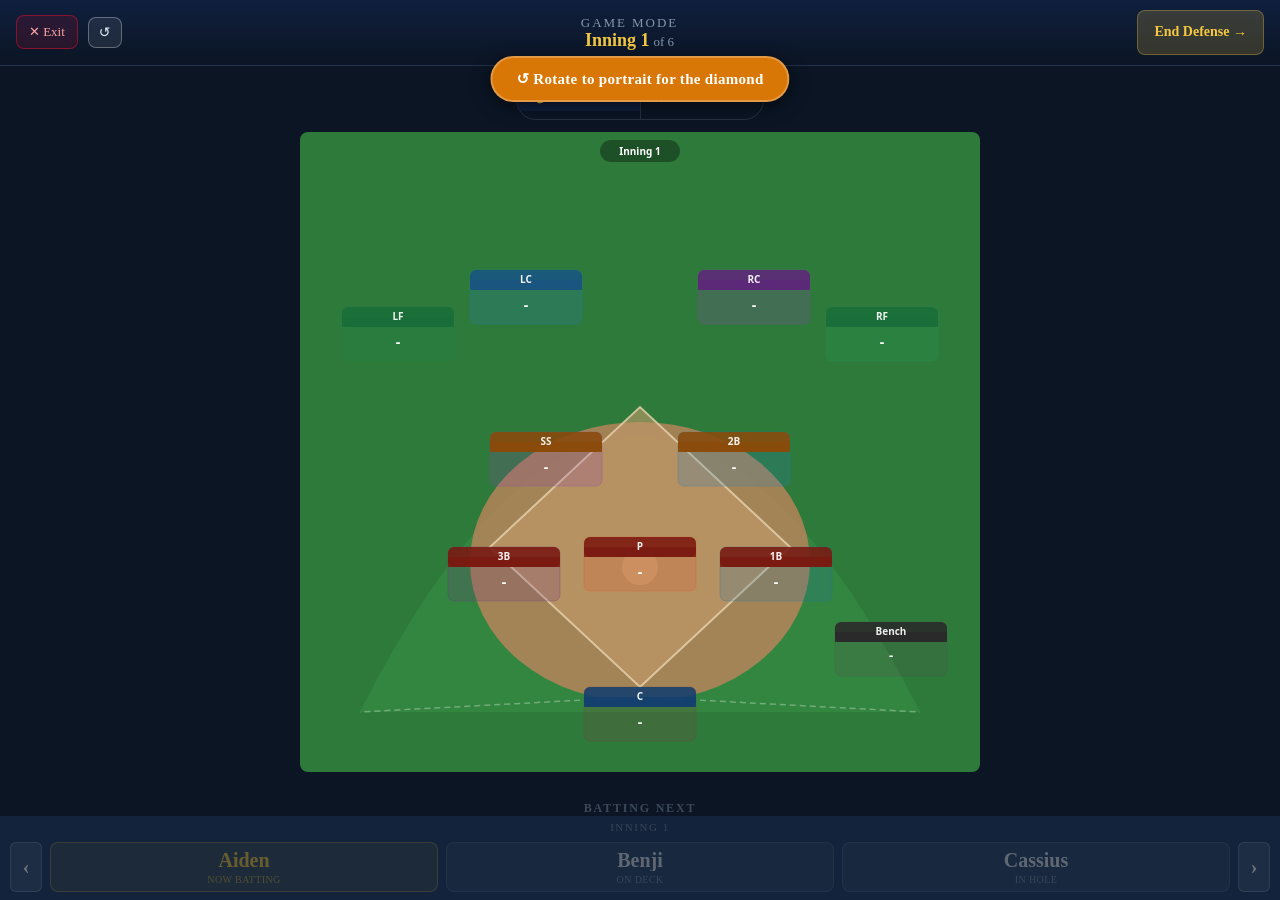
Test: GameModeScreen — half-completion state machine › opens the inning modal once both halves are marked done
The image size is (1280, 900).
Click the button "End Defense →". click: (1201,32)
box: [1137,10,1264,55]
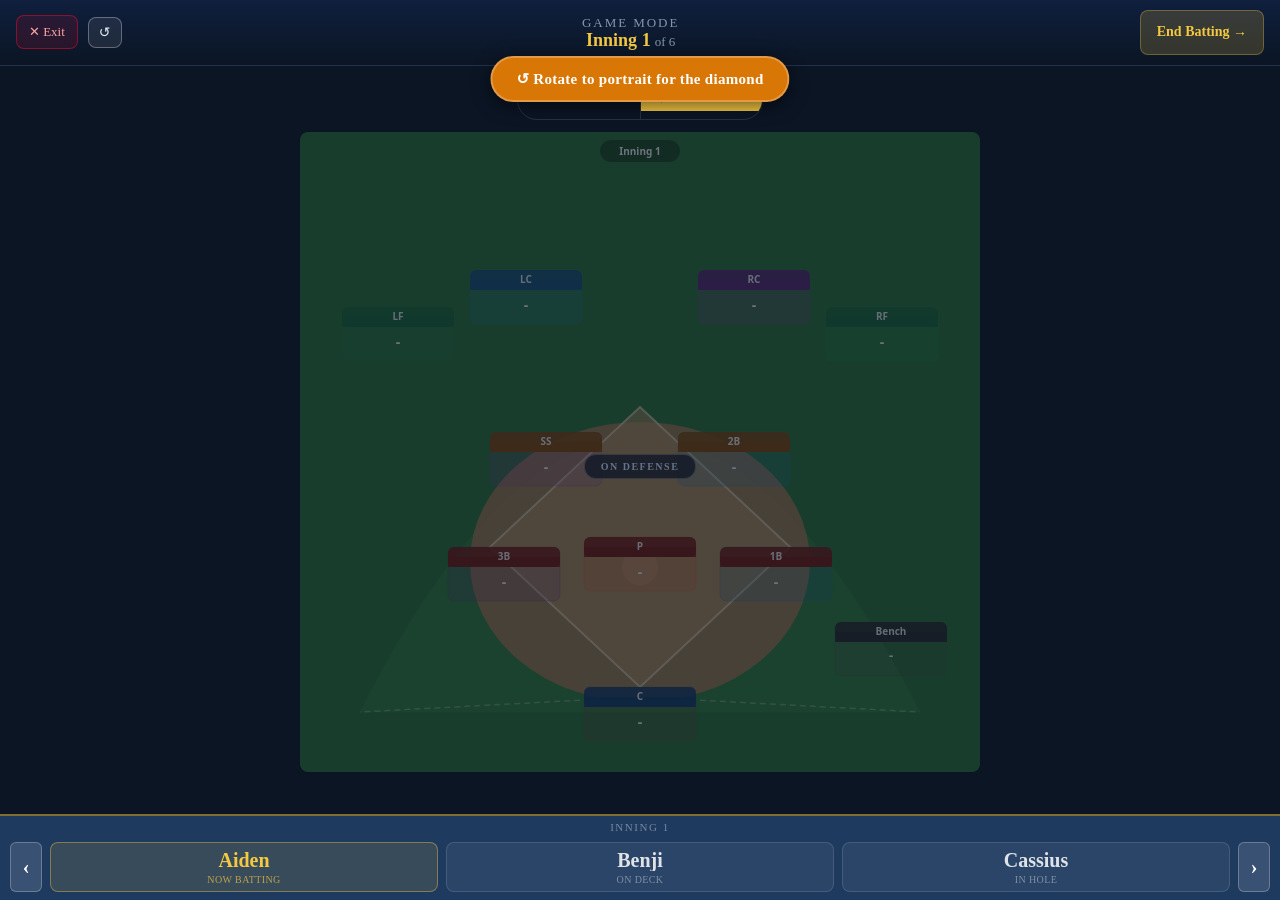
Click the button "End Defense →". click: (1202,32)
box: [1140,10,1264,55]
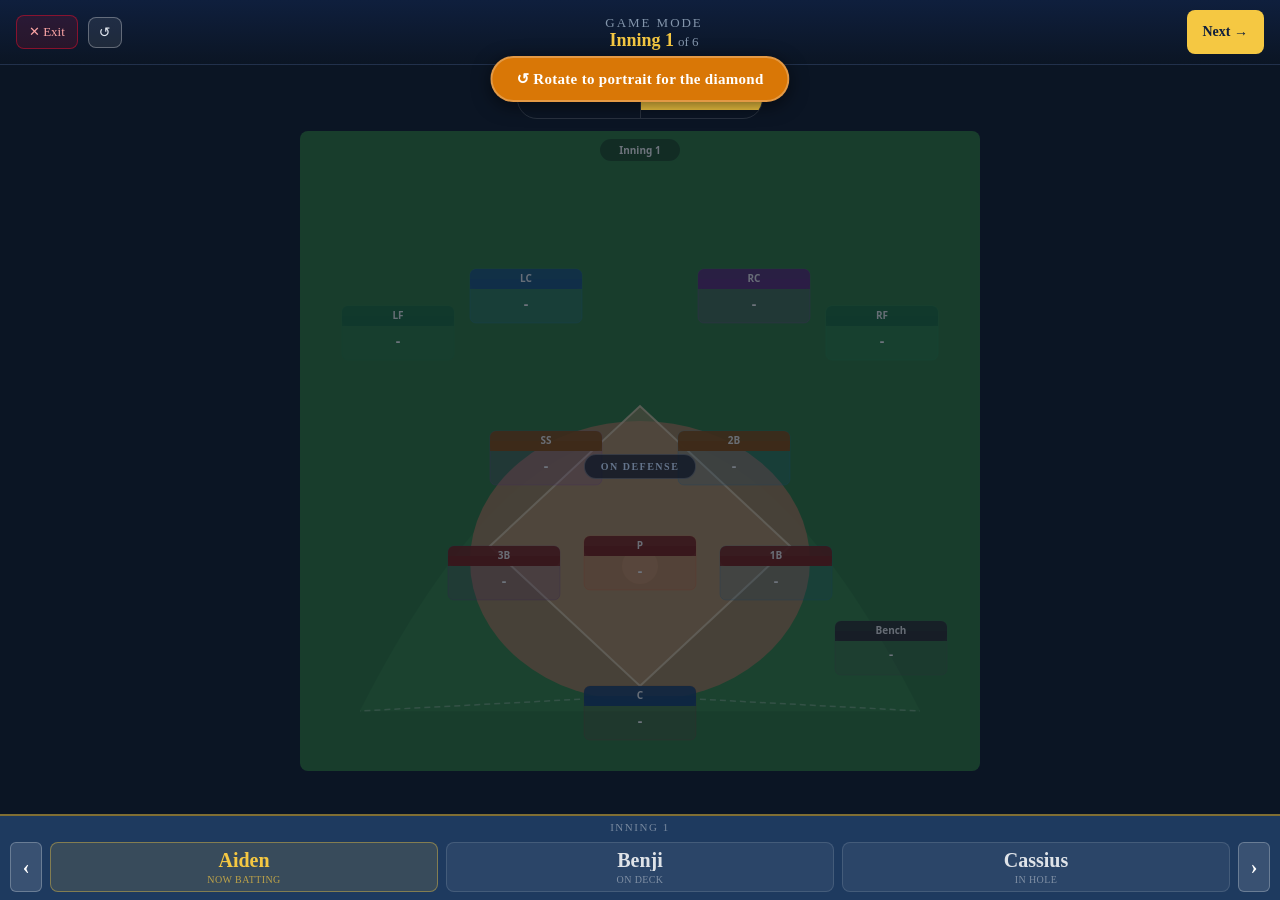
Click the button "End Defense →". click: (1225,32)
box: [1186,10,1264,54]
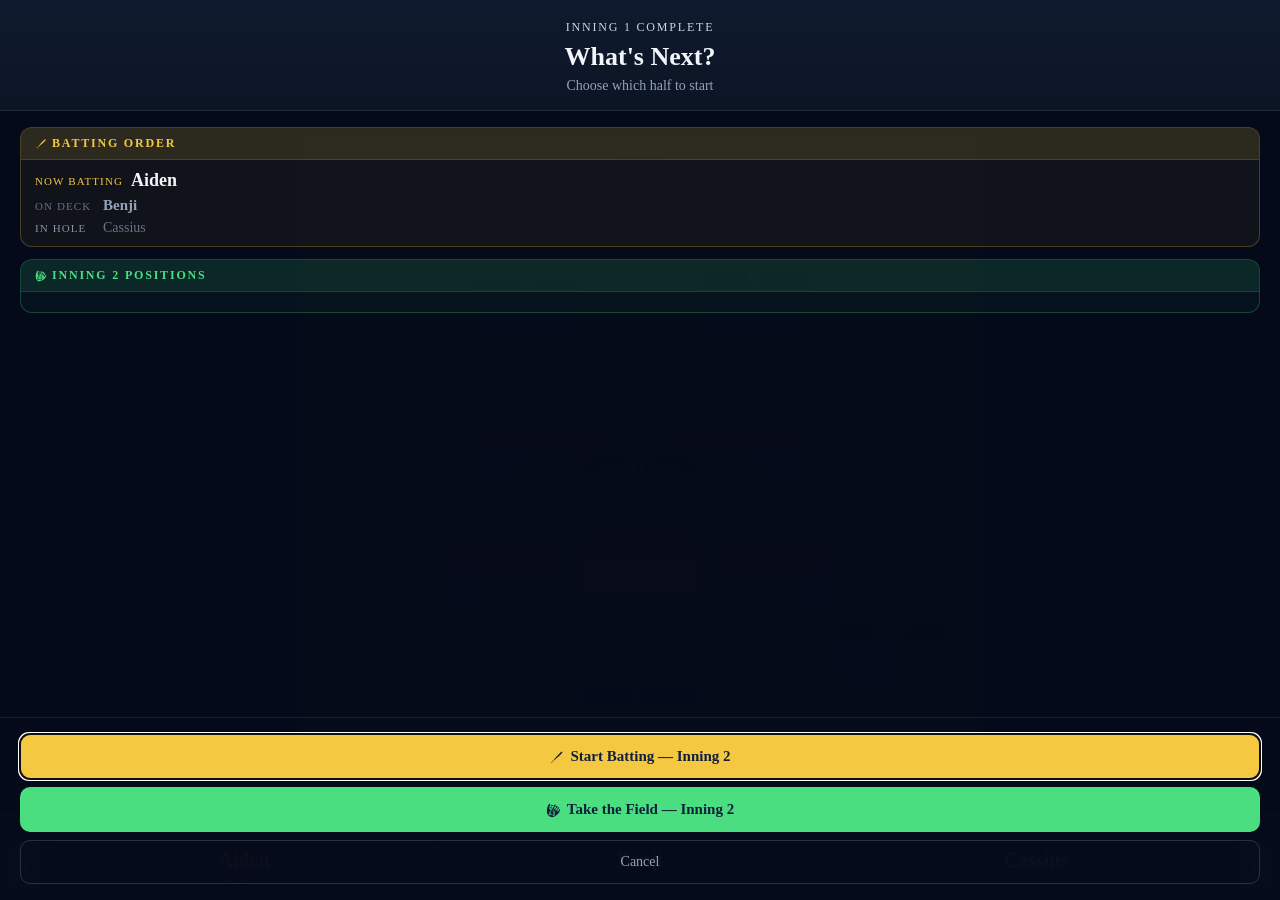
Expected: the text "What's Next?" is shown, [564,42,715,71]
